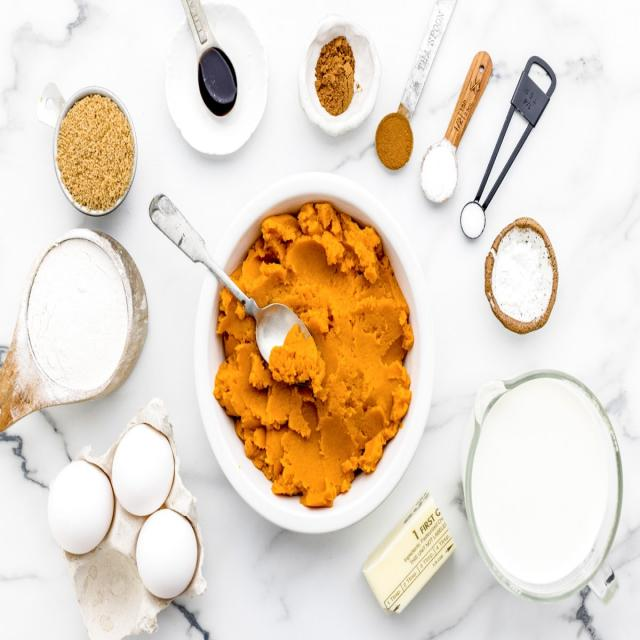Sugar: (54, 89, 138, 212)
